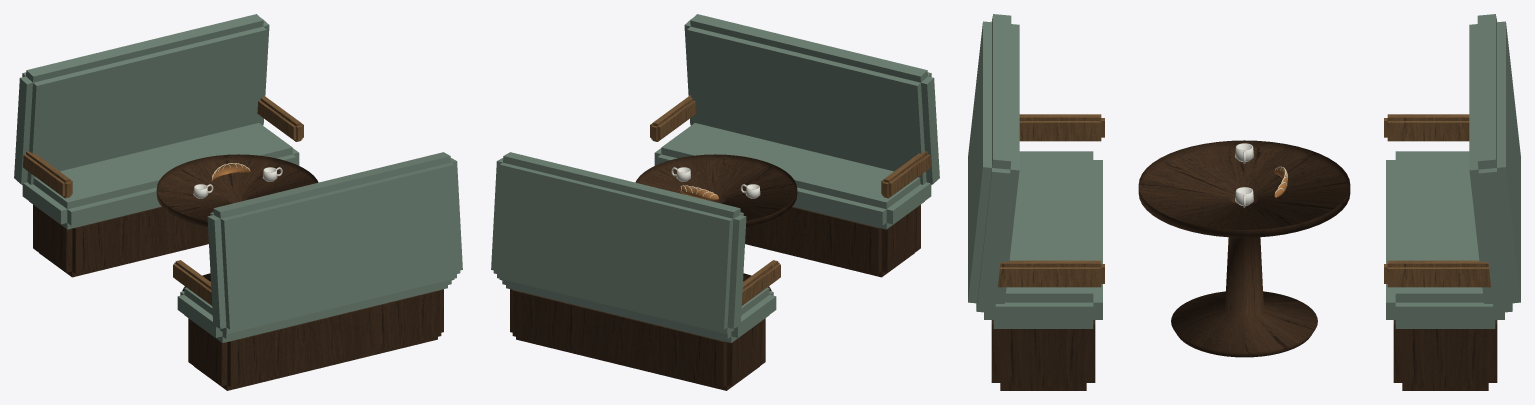
The model's file is cafe_banquette.glb.
3 renders of one model, left to right at view 1: azimuth 30°, elevation 25°; view 2: azimuth 150°, elevation 25°; view 3: azimuth 270°, elevation 25°, orthographic. The views are drawn at different scales.
Visible parts, largest first — view 1: cafe_banquette_ALVENE_woven_sage, cafe_banquette_CC0_Smoked_walnut, cafe_banquette_CC0_Oak_veneer; view 2: cafe_banquette_ALVENE_woven_sage, cafe_banquette_CC0_Smoked_walnut, cafe_banquette_CC0_Oak_veneer; view 3: cafe_banquette_ALVENE_woven_sage, cafe_banquette_CC0_Smoked_walnut, cafe_banquette_CC0_Oak_veneer.
Boxes of the visible parts, <box> form: cafe_banquette_ALVENE_woven_sage: <box>14,14,462,342</box>; cafe_banquette_CC0_Smoked_walnut: <box>33,154,443,390</box>; cafe_banquette_CC0_Oak_veneer: <box>23,95,303,305</box>; cafe_banquette_ALVENE_woven_sage: <box>491,14,939,342</box>; cafe_banquette_CC0_Smoked_walnut: <box>510,154,920,390</box>; cafe_banquette_CC0_Oak_veneer: <box>650,95,930,305</box>; cafe_banquette_ALVENE_woven_sage: <box>968,14,1520,328</box>; cafe_banquette_CC0_Smoked_walnut: <box>991,140,1497,390</box>; cafe_banquette_CC0_Oak_veneer: <box>998,114,1490,287</box>.
Bounding box in the file's own units: 1.68 × 1.23 × 2.56.
7 materials, 2 textured.
